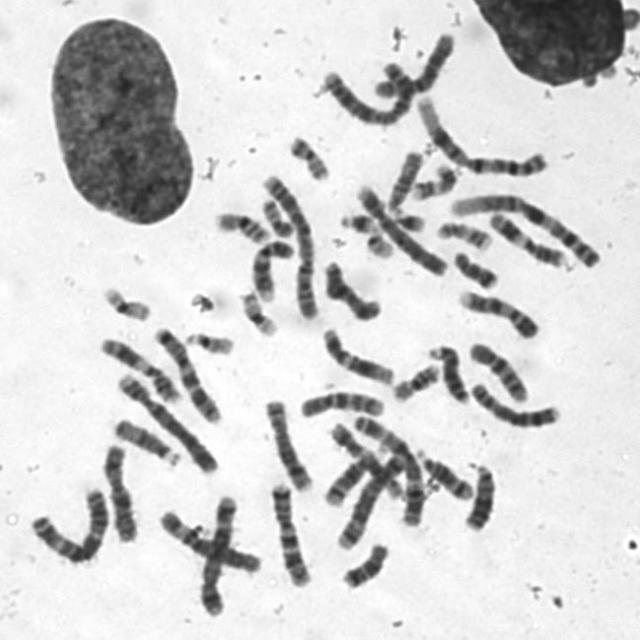A1: (441, 184, 606, 270), (411, 87, 552, 180)
A2: (255, 165, 322, 321), (315, 52, 417, 128)
A3: (348, 408, 426, 528), (23, 480, 112, 565)
B4: (111, 366, 221, 476), (350, 177, 453, 278)
B5: (332, 443, 412, 552), (194, 488, 241, 618)
C10: (462, 334, 532, 404), (295, 384, 387, 419)
C11: (92, 330, 183, 406), (483, 204, 569, 269)
C12: (323, 416, 408, 501), (316, 320, 398, 387)
C6: (152, 501, 265, 576), (368, 24, 457, 100)
C7: (148, 320, 225, 425), (264, 476, 315, 588)
C8: (258, 392, 314, 493), (466, 374, 564, 430)
C9: (452, 282, 541, 340), (244, 232, 298, 304)
D13: (423, 338, 472, 406), (460, 457, 499, 533)
D14: (411, 441, 476, 501), (318, 448, 374, 508)
D15: (106, 411, 182, 466), (383, 142, 428, 216)
E16: (386, 356, 442, 404), (209, 205, 274, 245)
E17: (406, 157, 462, 202), (432, 214, 495, 252)
E18: (337, 536, 392, 590), (448, 243, 502, 291)
F19: (96, 279, 154, 323), (233, 284, 280, 338)
F20: (283, 128, 333, 182), (255, 191, 298, 239)
G21: (335, 206, 382, 234), (390, 204, 428, 233)
G22: (178, 324, 236, 356), (360, 224, 397, 260)
X: (97, 437, 141, 544), (316, 253, 384, 322)
